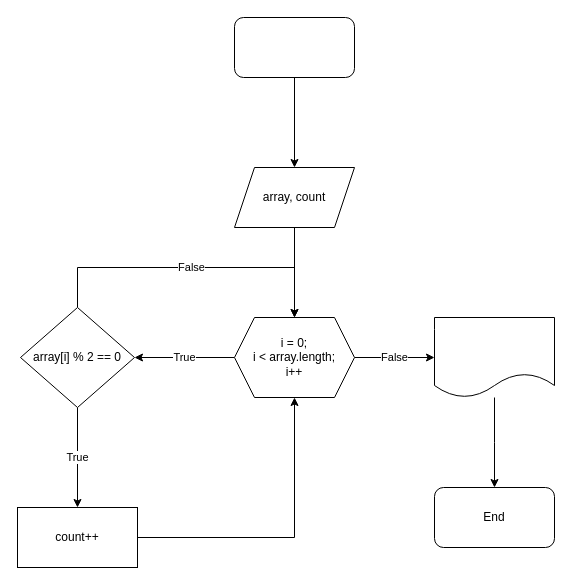
Some shapes in this 572 by 585 pixel diagram are drawn without their labels. The shapes that lost their labels are listed below. From the top down, each one's centre as x and y in pixels, then its label:
At (294,47): "Start".
At (494,357): "count".
